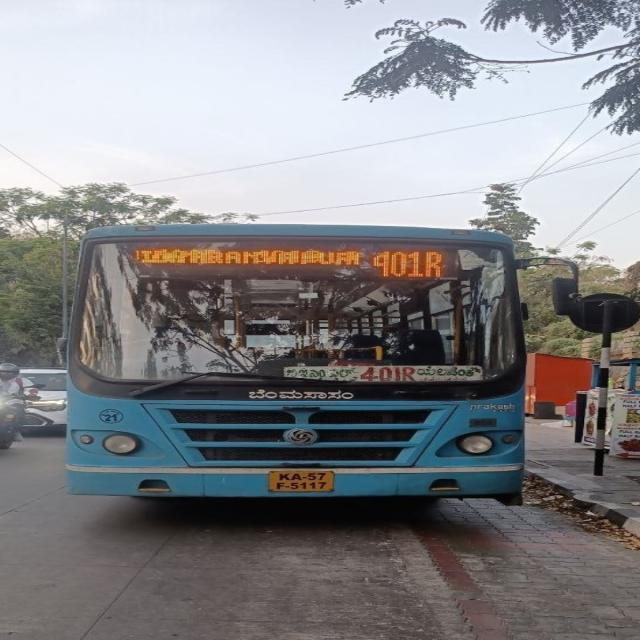bus: (63, 218, 574, 530)
display: (124, 238, 469, 286)
dnumber: (373, 248, 446, 280)
